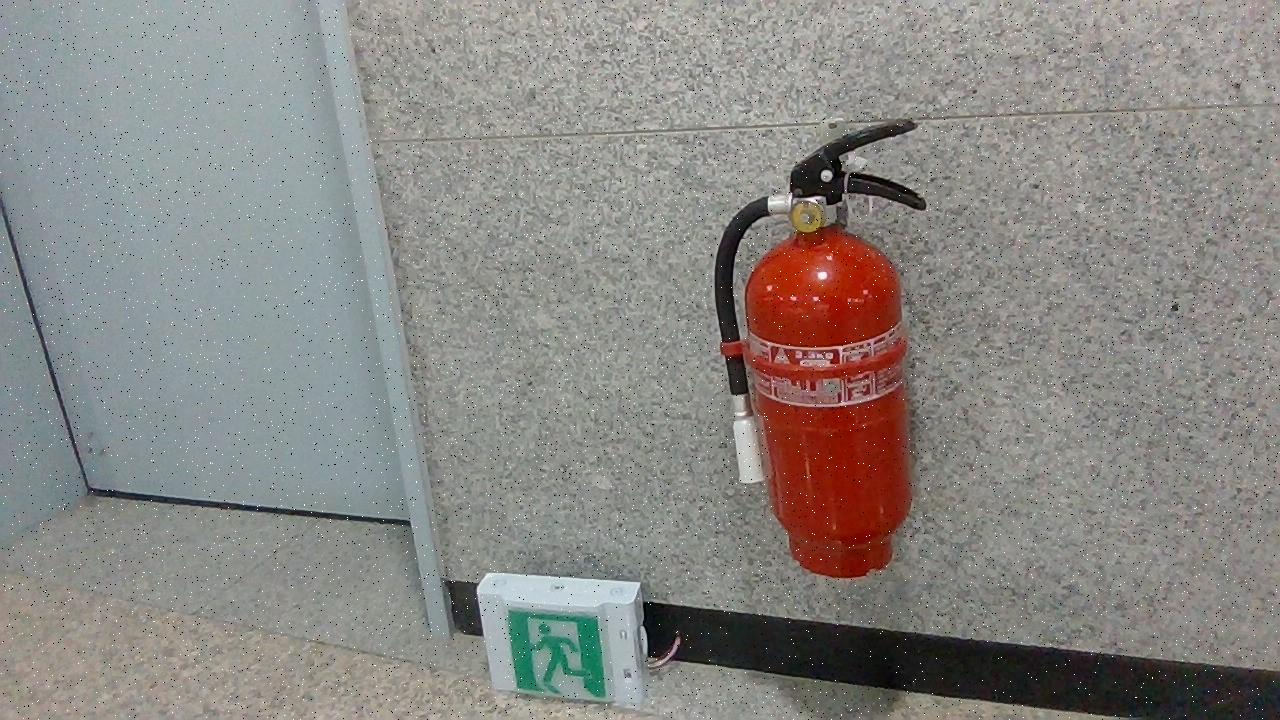emergency_exit: (714, 117, 928, 579), (475, 571, 648, 710)
